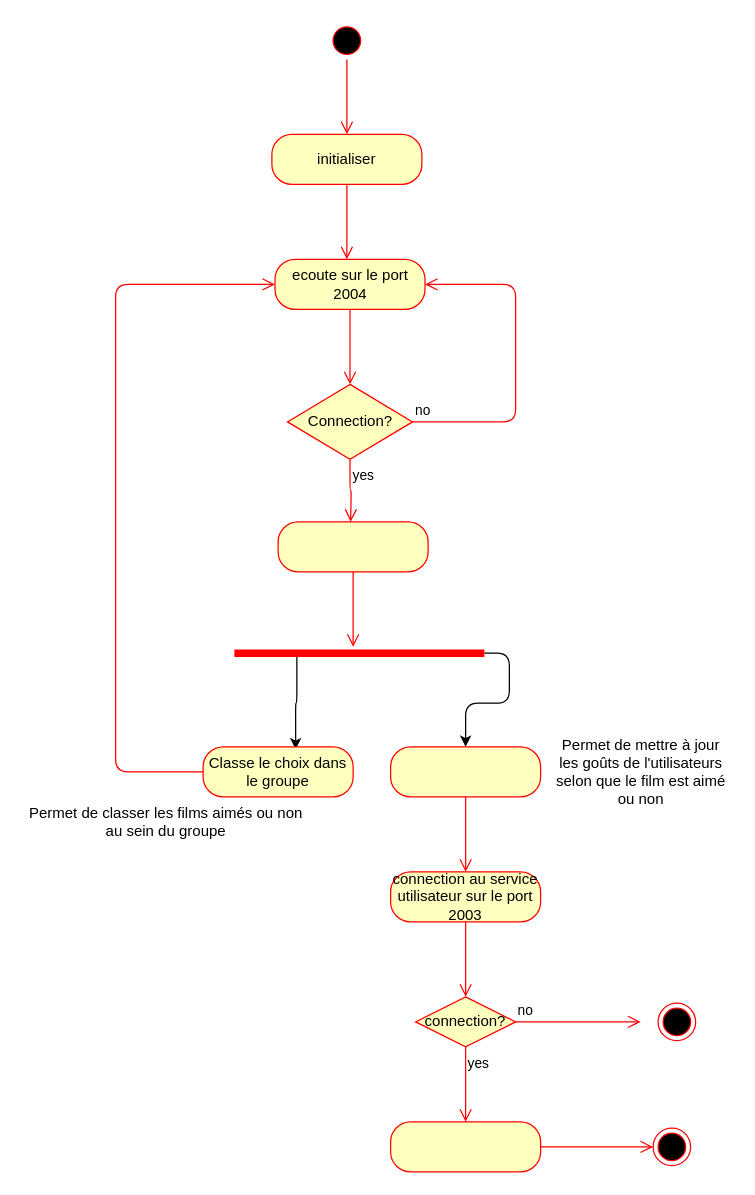
This 755x1195 diagram has some shape labels left out. The shapes that lost their labels are listed below. From the top down, each one's centre as x and y in pixels, then its label:
At (352,546): "récupère l'id groupe, l'id utilisateur et les infos sur le film".
At (465,771): "extrait les genres du film concerné".
At (465,1146): "envoi les info utilisateurs et les genres".
